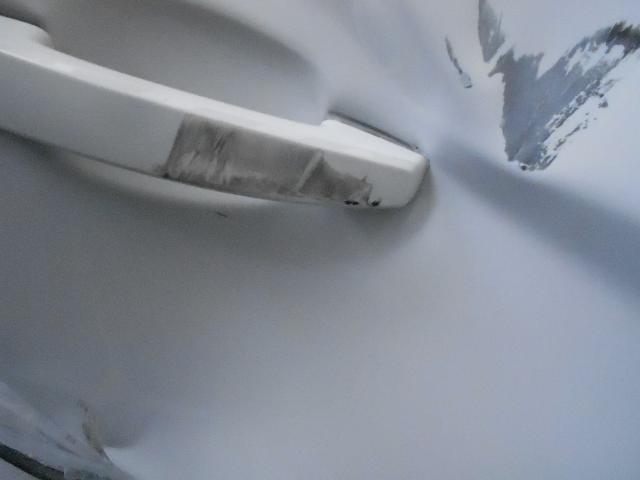crack: (0, 443, 64, 480)
rub: (490, 20, 640, 170), (161, 114, 373, 206), (479, 0, 506, 61)
scratch: (446, 36, 473, 87)
